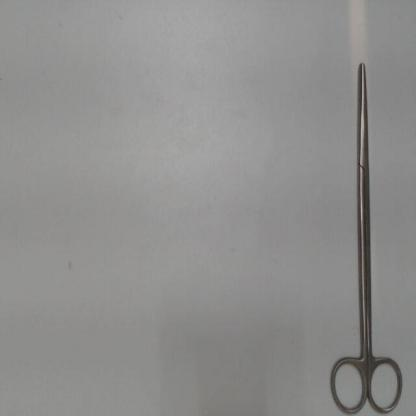9 Metzenbaum Scissors: (326, 58, 406, 415)
